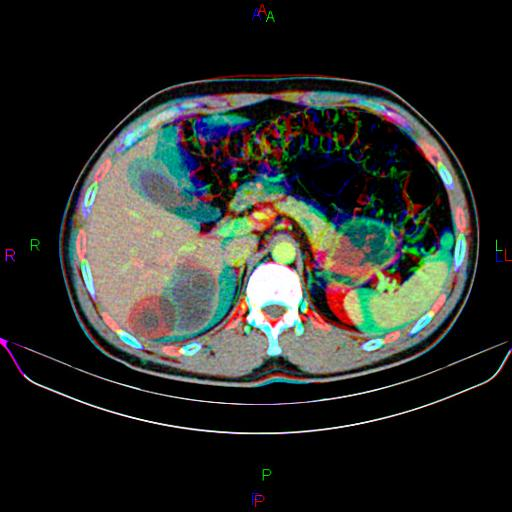Cyst: (129, 259, 217, 341), (138, 169, 221, 223)
